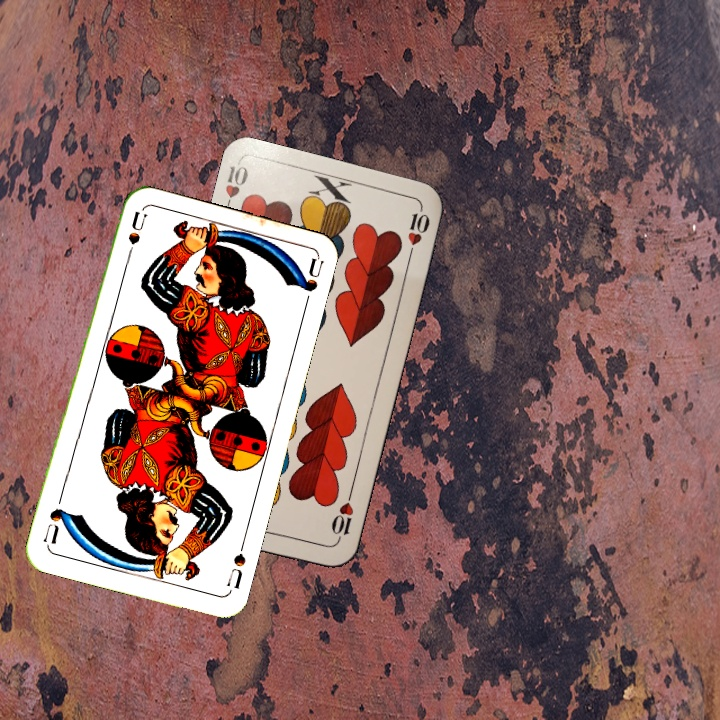H10: (220, 159, 251, 218), (327, 487, 356, 546)
SU: (121, 208, 148, 267), (222, 549, 249, 591)
